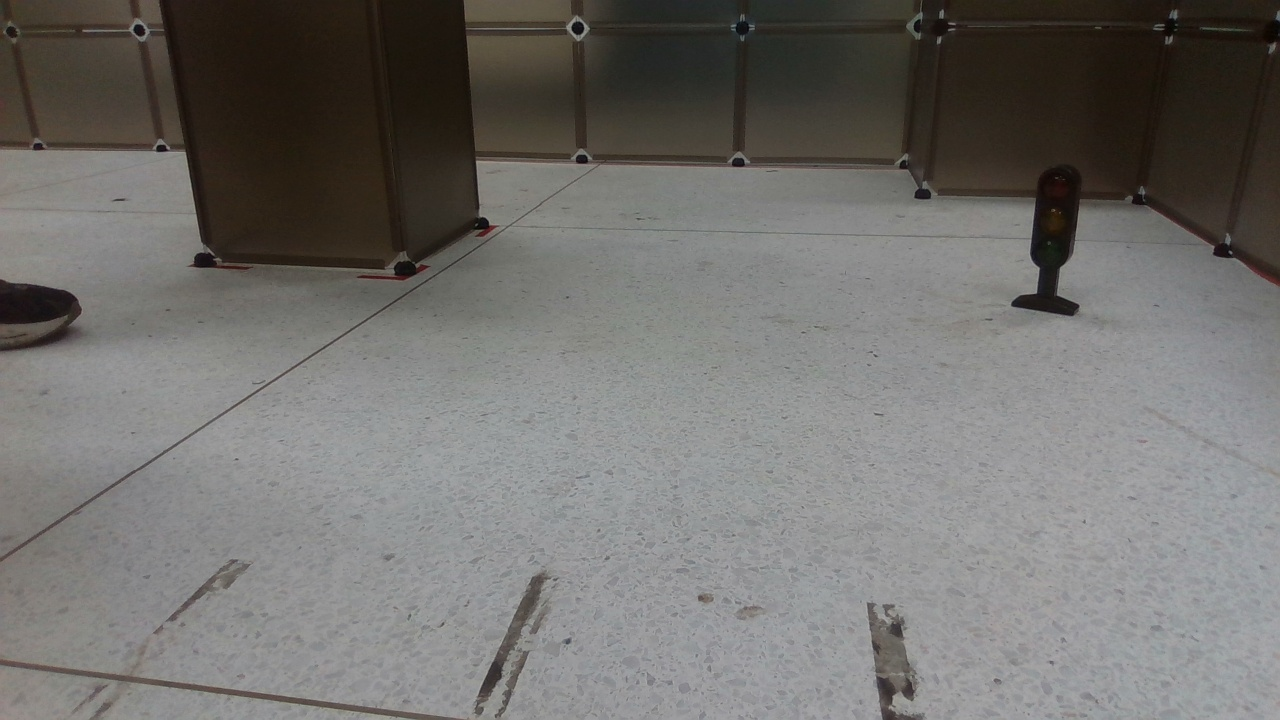Dim traffic light: (1012, 163, 1085, 321)
